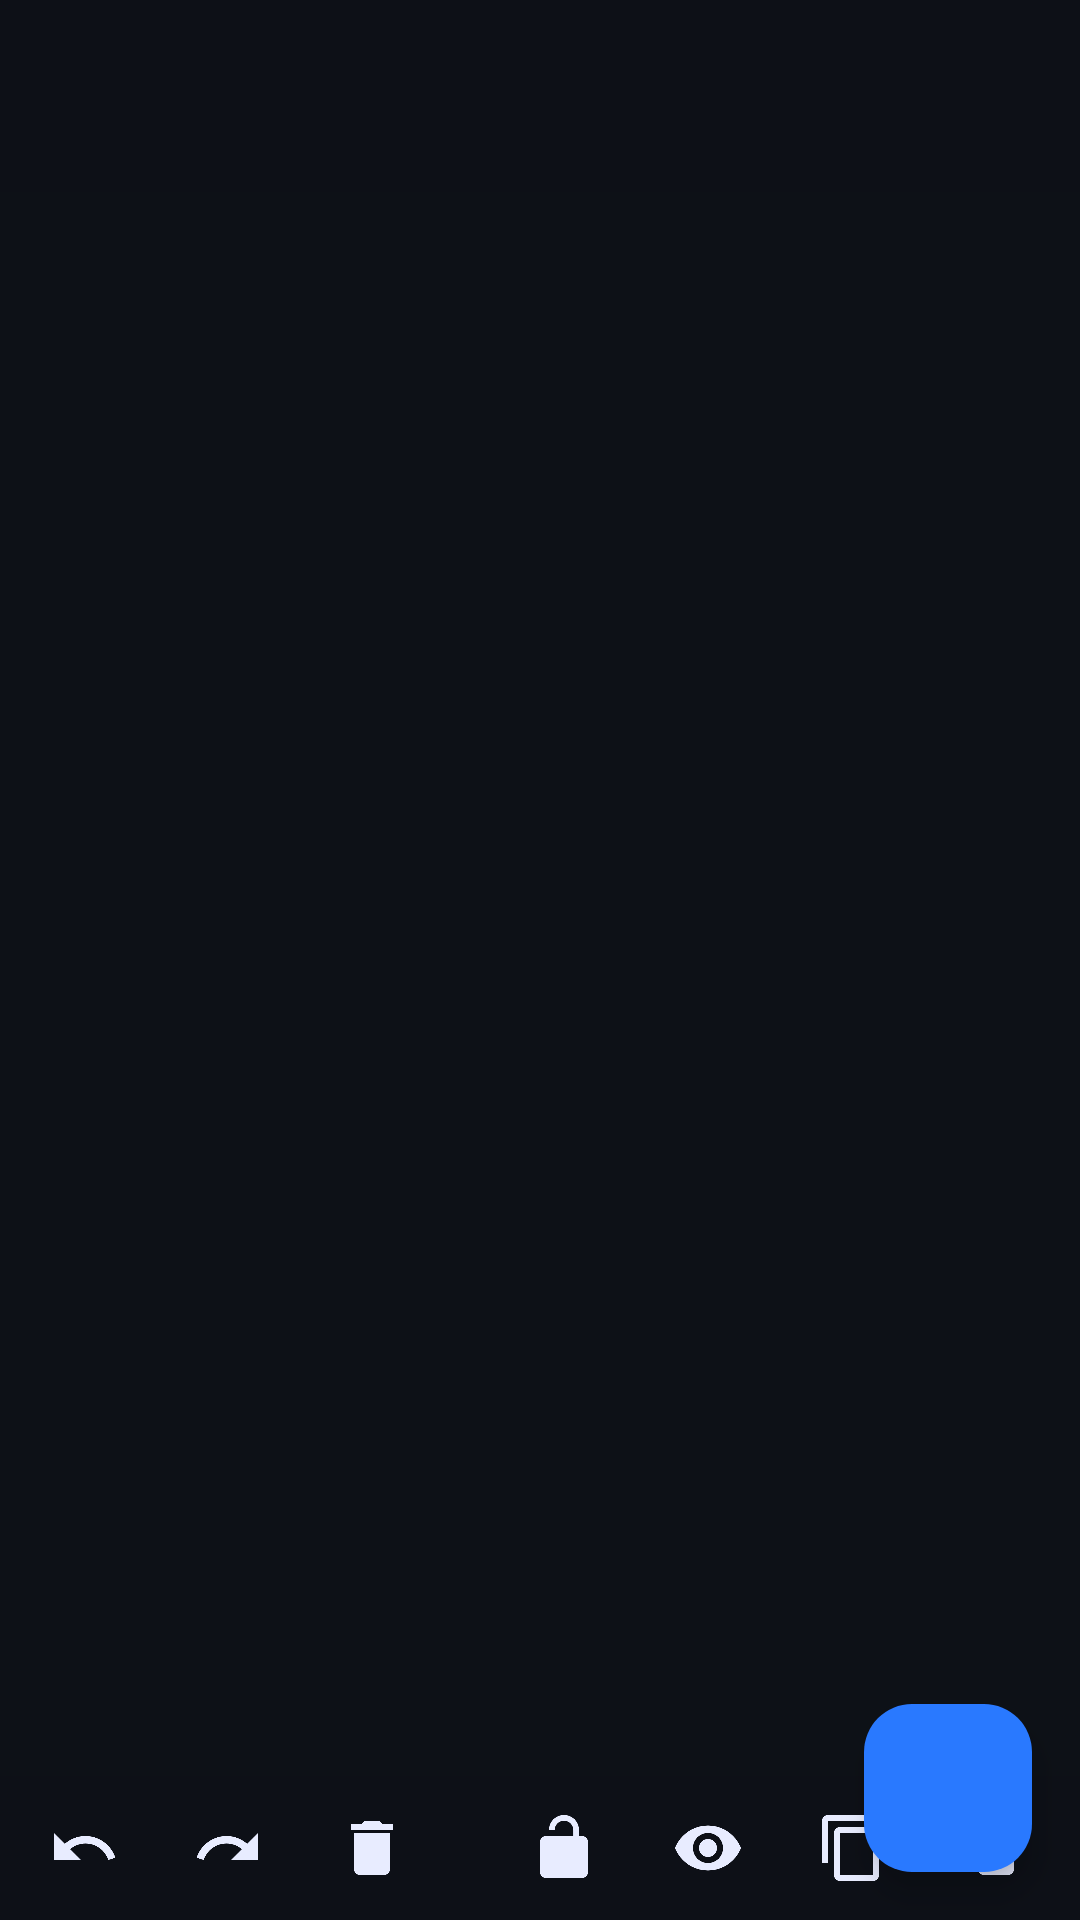

Where to tap for icons on this 1080px x 1920px app screen, as point (x, y):
Lock or unlock: point (564, 1846)
Redo: point (227, 1846)
Show or hide: point (708, 1848)
Undo: point (84, 1846)
